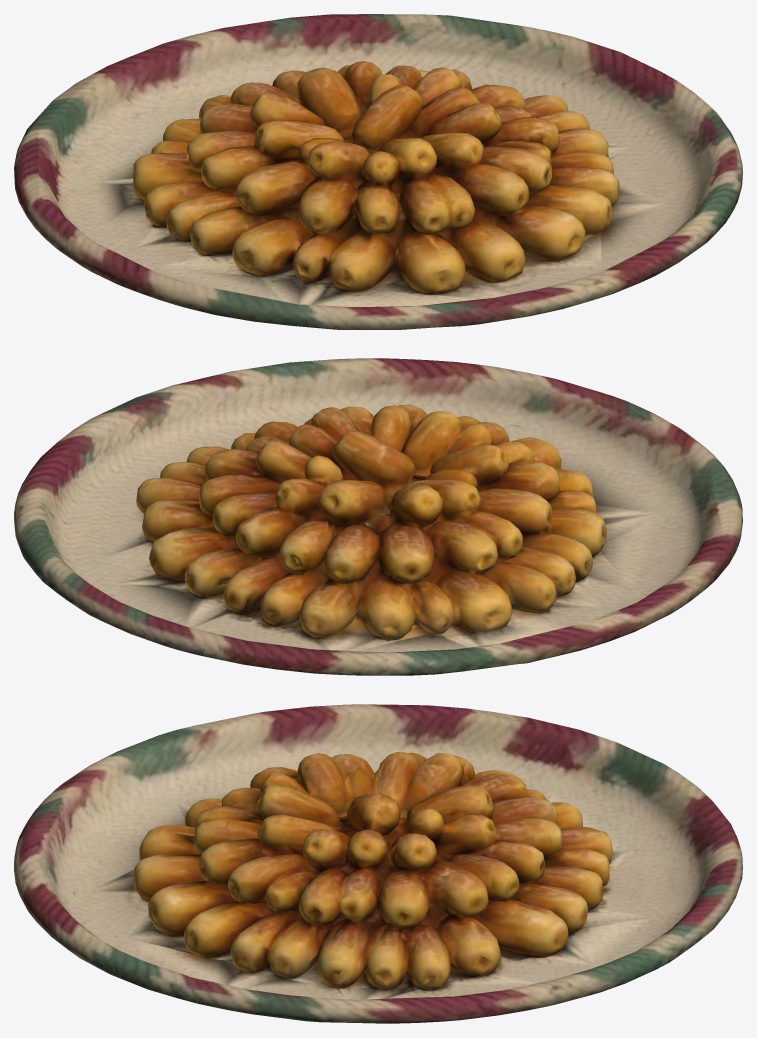
Rendered from p-dates.glb.
The picture shows the model from 3 angles, top to bottom: view 1: azimuth 30°, elevation 25°; view 2: azimuth 150°, elevation 25°; view 3: azimuth 270°, elevation 25°; orthographic projection.
Visible parts, largest first — view 1: node_0; view 2: node_0; view 3: node_0.
Part boxes in pixels (bbox=[...]): node_0: bbox=[14, 14, 742, 329]; node_0: bbox=[14, 358, 742, 675]; node_0: bbox=[14, 704, 742, 1023].
Size of the model in its own units: 1.19 by 0.1942 by 1.19.
Materials: 1 (1 with a texture image).
